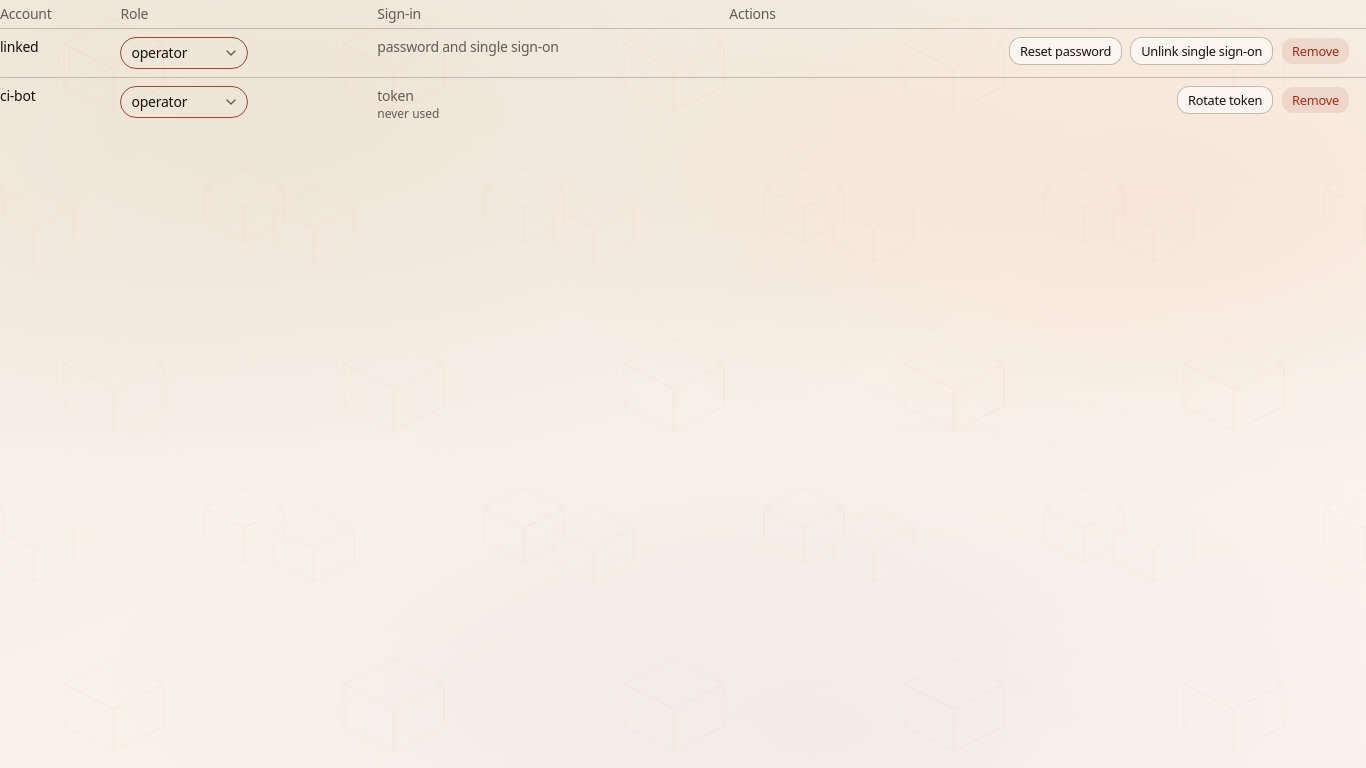
the accounts table › says who links the account next, and to link again right away
Click the button "Unlink single sign-on" at [1202, 51], box [1130, 37, 1273, 65]
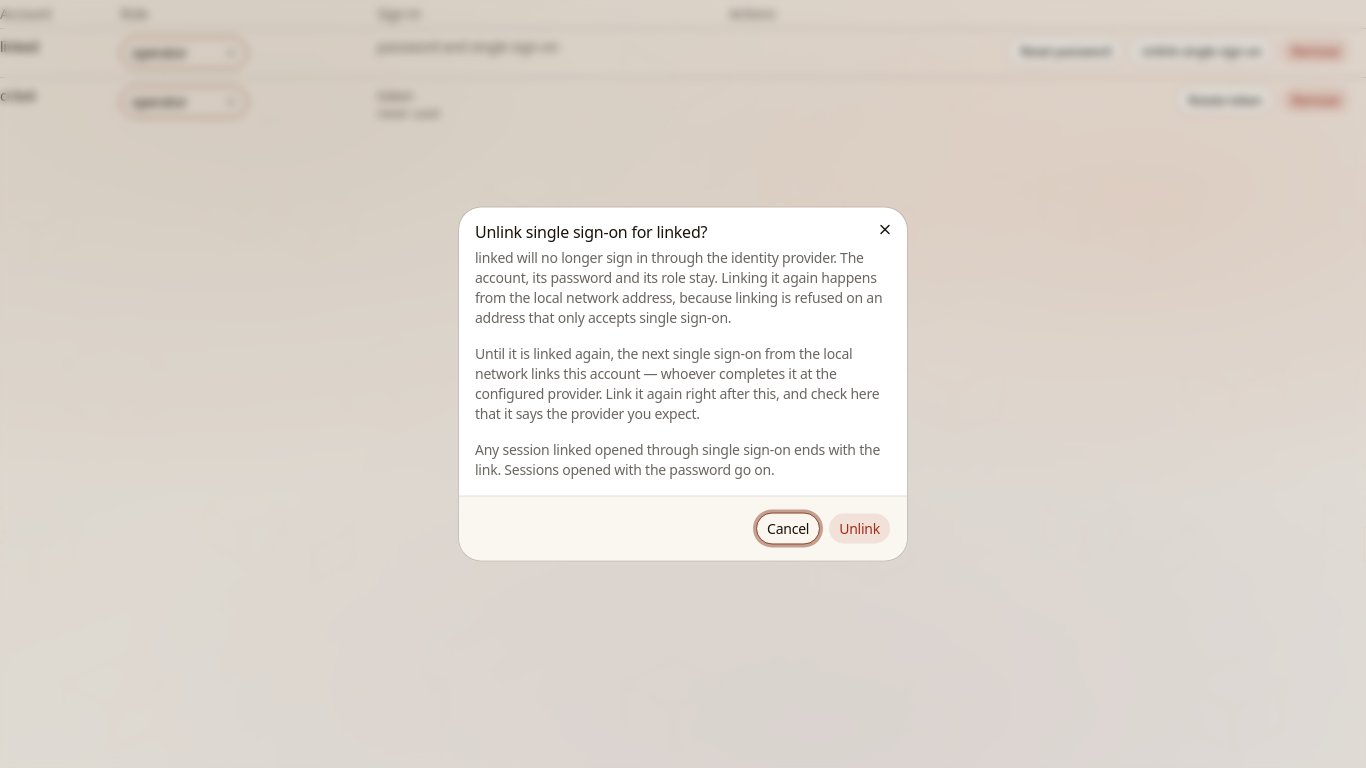
Result: the text "link it again right after this" is shown at [475, 344, 879, 422]
